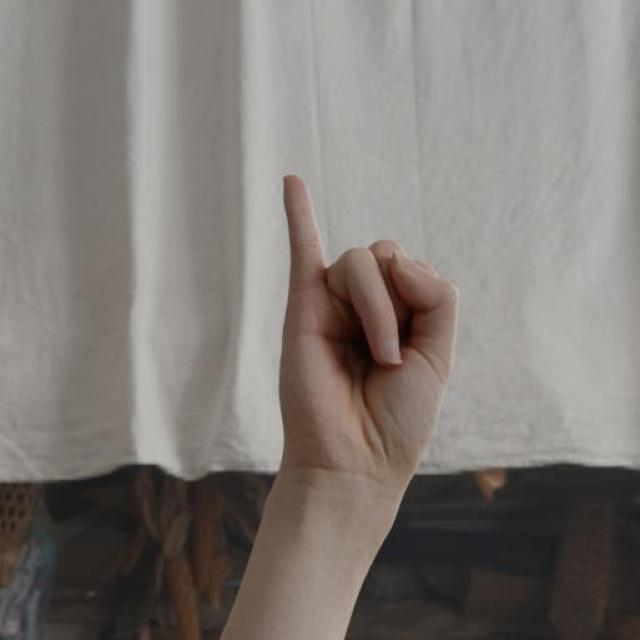I: (269, 169, 461, 527)
